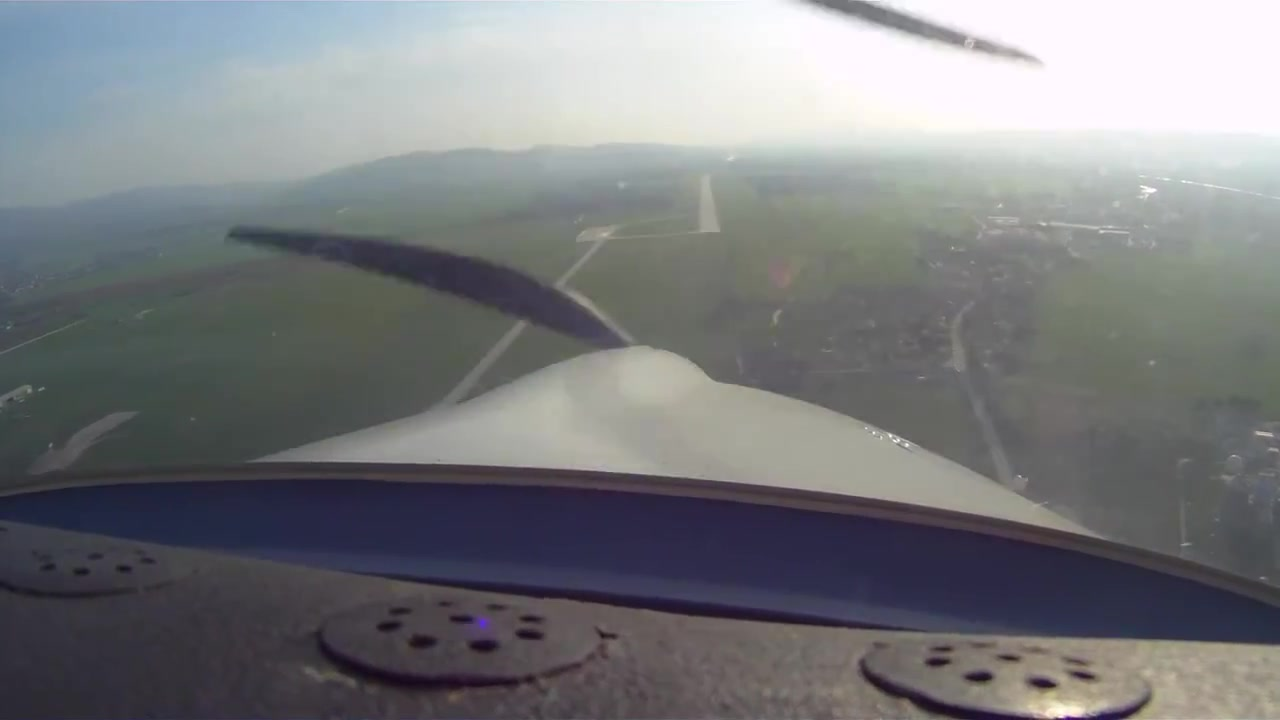runway: (694, 173, 722, 235)
